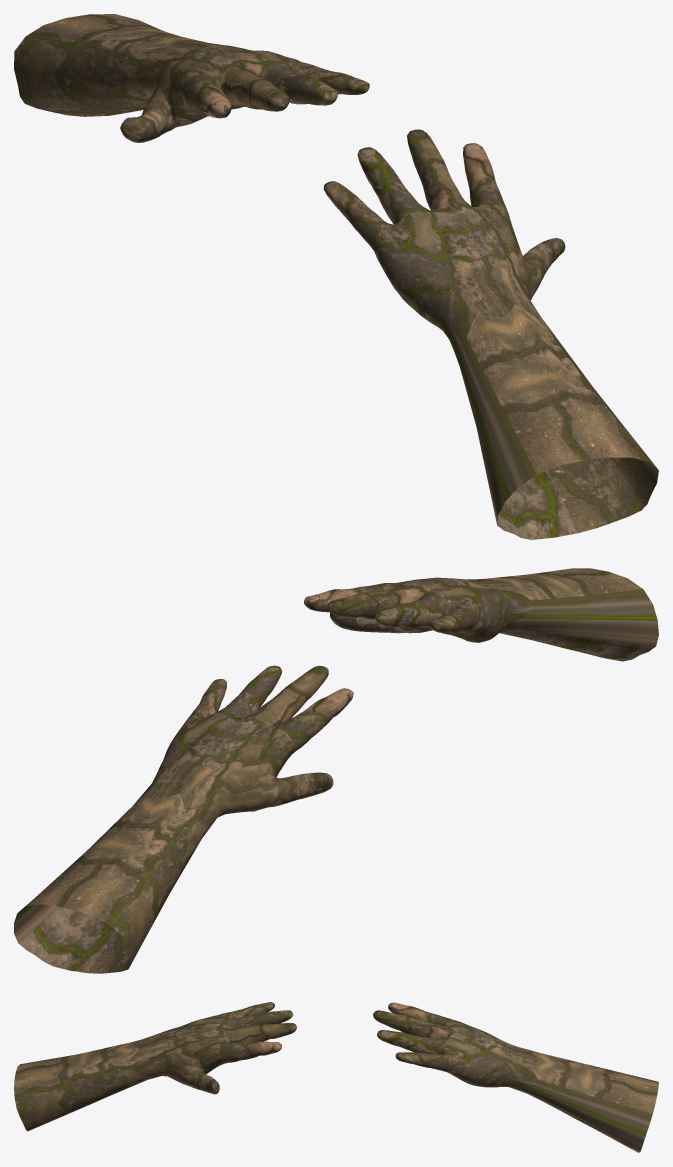
Rendered from hands_000011.obj.
The picture shows the model from 3 angles, top to bottom: view 1: azimuth 30°, elevation 25°; view 2: azimuth 150°, elevation 25°; view 3: azimuth 270°, elevation 25°; orthographic projection. The views are drawn at different scales.
Visible parts, largest first — view 1: hand.001_Mesh.001, hand_Mesh; view 2: hand_Mesh, hand.001_Mesh.001; view 3: hand_Mesh, hand.001_Mesh.001.
Boxes of the visible parts, x1,y1,x2,y2 form: hand.001_Mesh.001: [323, 129, 658, 539]; hand_Mesh: [14, 14, 369, 142]; hand_Mesh: [14, 665, 353, 973]; hand.001_Mesh.001: [304, 568, 658, 661]; hand_Mesh: [373, 1002, 658, 1152]; hand.001_Mesh.001: [14, 1002, 296, 1131].
Size of the model in its own units: 1.58 by 1.41 by 6.88.
1 material, 1 textured.
